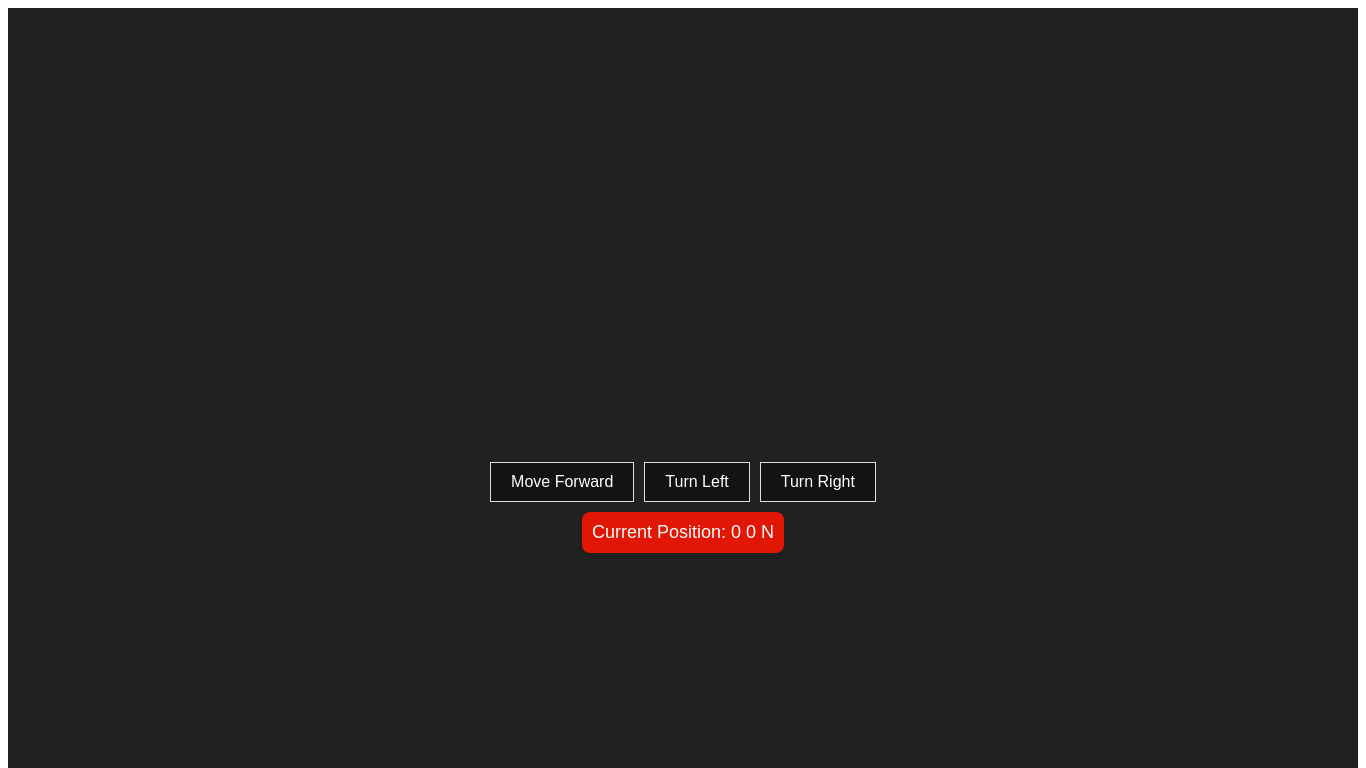
Test case: Board Component › turns the robot left and right
Click the button "Turn Left" at [697, 482], box [644,462,749,502]
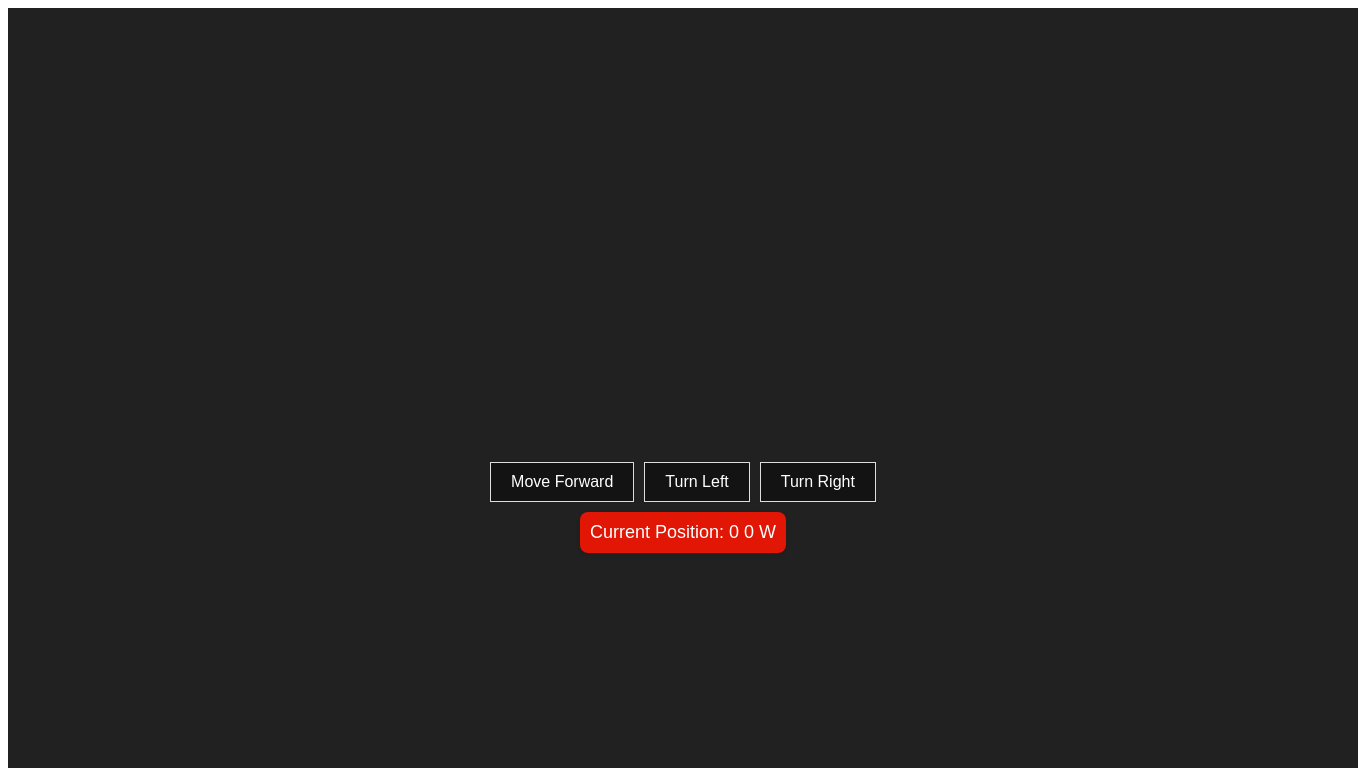
Expected: the text with test id "current-position" reads "Current Position: 0 0 W", [580,512,786,553]
Click the button "Move Forward" at [562, 482], box [490,462,634,502]
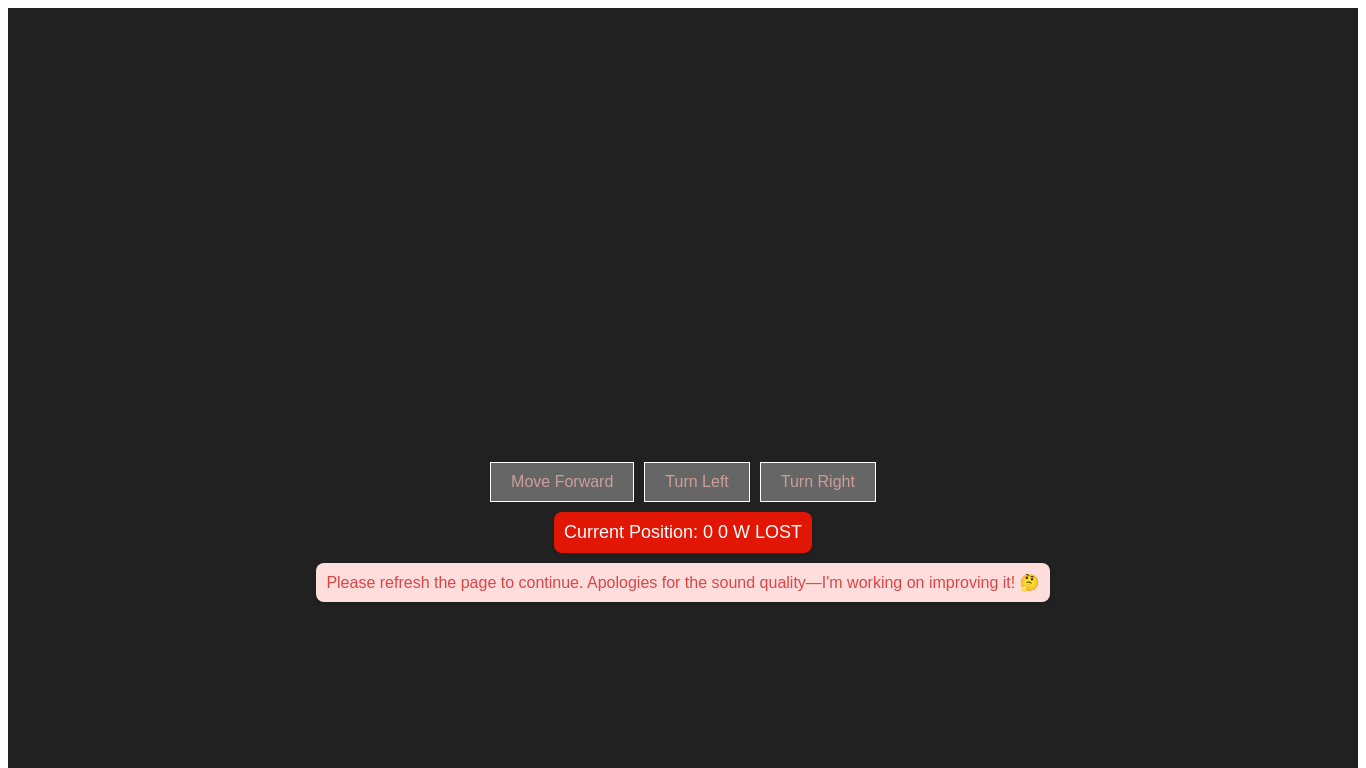
Expected: the text with test id "current-position" reads "Current Position: 0 0 W LOST", [554,512,812,553]
